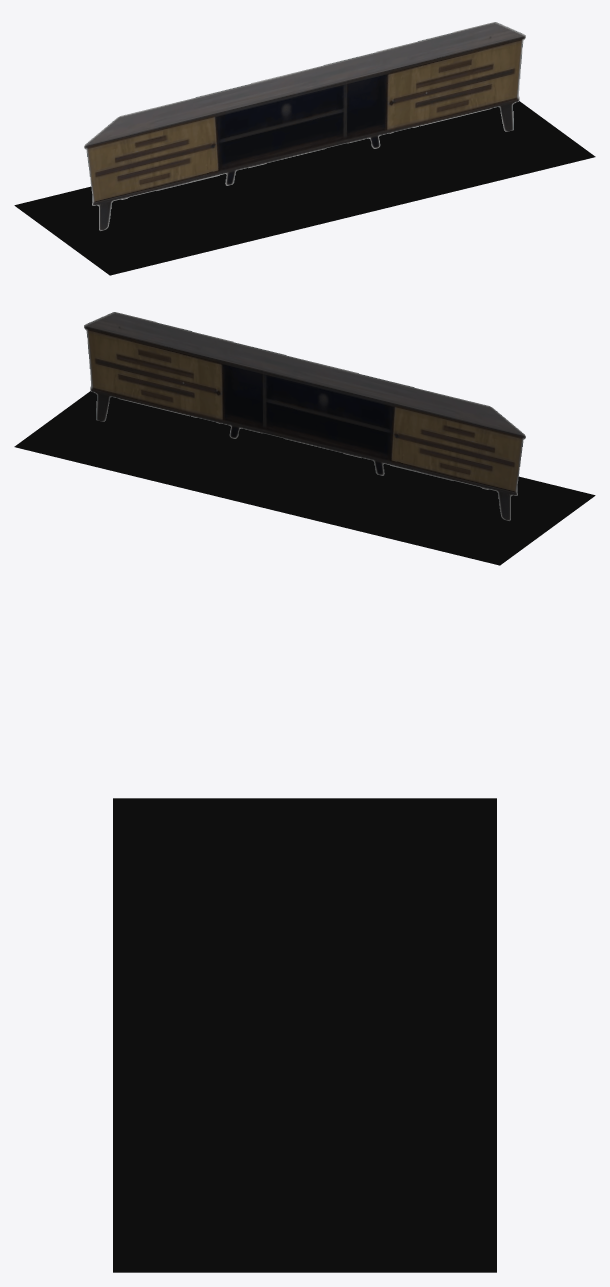
File: arm-09f32d0510.glb
3 views of the same model, one above another, from view 1: azimuth 30°, elevation 25°; view 2: azimuth 150°, elevation 25°; view 3: azimuth 270°, elevation 25° (orthographic). The views are drawn at different scales.
Bounding box in the file's own units: 1.76 × 0.3928 × 0.602.
2 materials, 2 textured.
